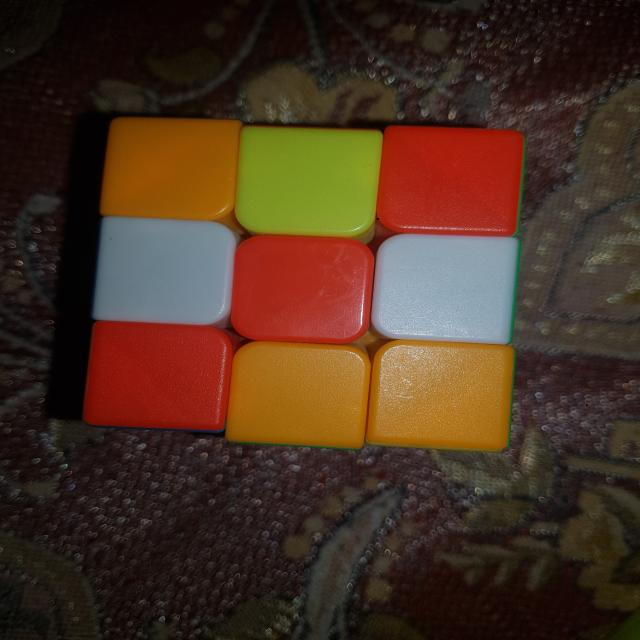general: (80, 114, 526, 452), (233, 123, 383, 240), (81, 320, 233, 434), (362, 338, 512, 452), (376, 123, 525, 235), (376, 233, 526, 344), (91, 215, 237, 327), (223, 340, 370, 450), (229, 234, 374, 343)
